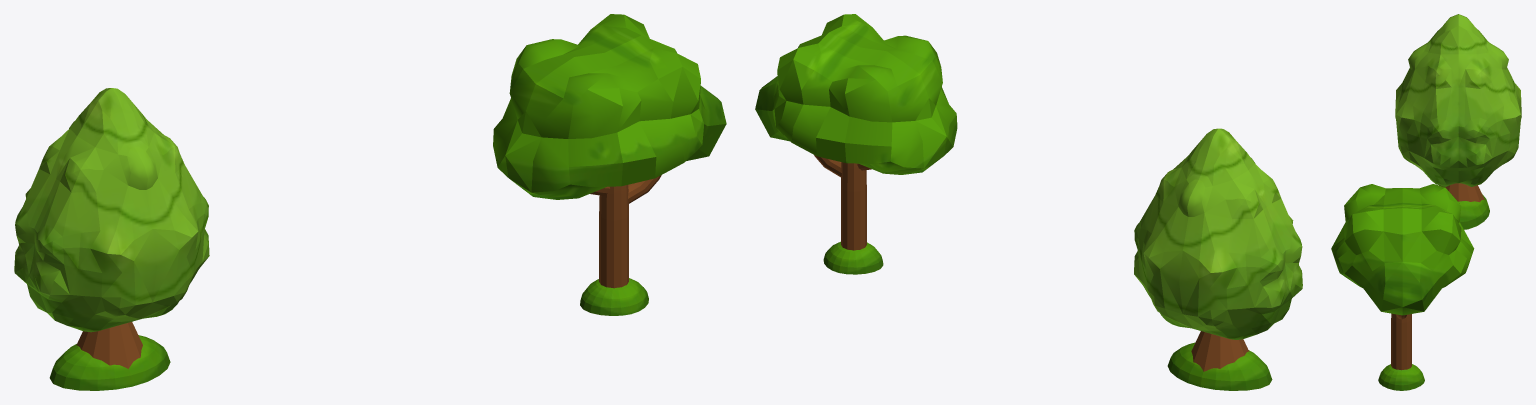
File: Tree-v1.glb
3 views of the same model, side by side, from view 1: azimuth 30°, elevation 25°; view 2: azimuth 150°, elevation 25°; view 3: azimuth 270°, elevation 25° (orthographic). The views are drawn at different scales.
Visible parts, largest first — view 1: Tree_31, Tree_10; view 2: Tree_31, Tree_10; view 3: Tree_31, Tree_10.
Part boxes in pixels (x1,y1,x2,y2): Tree_31: (14, 88, 209, 390); Tree_10: (493, 14, 726, 315); Tree_31: (1134, 128, 1302, 390); Tree_10: (755, 14, 957, 274); Tree_31: (1395, 14, 1521, 229); Tree_10: (1331, 184, 1474, 390).
Size of the model in its own units: 0.1806 by 0.0787 by 0.0654.
2 materials, 1 textured.
